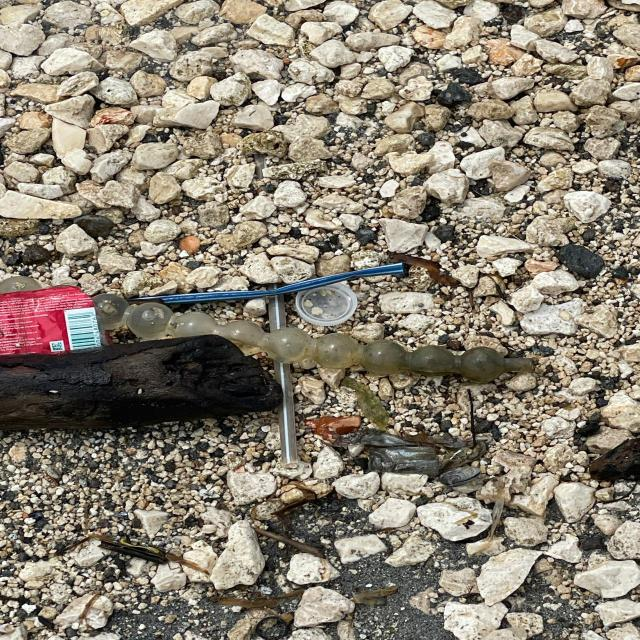plastic_waste: (129, 263, 405, 308), (1, 284, 101, 357), (295, 284, 359, 328)
